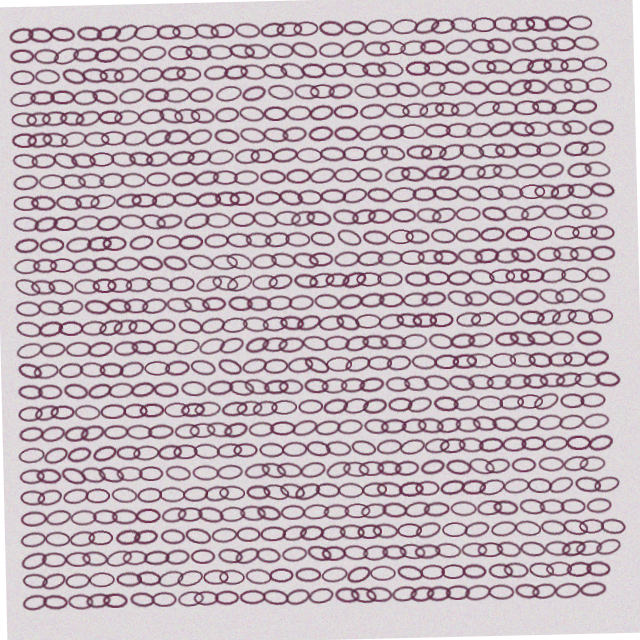chain: (345, 37, 374, 62), (301, 353, 330, 377), (284, 59, 313, 82), (14, 269, 43, 292), (530, 395, 559, 418), (119, 17, 147, 40), (337, 227, 365, 250), (58, 39, 87, 61), (148, 123, 177, 145), (441, 144, 470, 166), (226, 270, 255, 292), (464, 459, 493, 481), (289, 480, 318, 502), (14, 543, 43, 565), (66, 60, 94, 82), (511, 81, 539, 103), (55, 144, 83, 166), (334, 312, 362, 334), (215, 354, 243, 376), (39, 438, 67, 460), (56, 459, 84, 481), (321, 459, 349, 481), (228, 543, 256, 565), (34, 564, 62, 586), (339, 564, 367, 586), (419, 18, 448, 39), (296, 39, 325, 60), (478, 102, 507, 123), (226, 249, 255, 270), (446, 291, 475, 312), (550, 312, 579, 333), (197, 333, 226, 354), (507, 333, 536, 354), (241, 375, 270, 396), (288, 417, 317, 438), (93, 459, 122, 480), (274, 480, 303, 501), (409, 522, 438, 543), (99, 543, 128, 564), (162, 102, 190, 123), (492, 123, 520, 144), (341, 270, 369, 291), (97, 312, 125, 333), (295, 312, 323, 333), (535, 312, 563, 333), (217, 333, 245, 354), (243, 333, 271, 354), (15, 354, 43, 375), (31, 396, 59, 417), (76, 417, 104, 438), (88, 438, 116, 459), (256, 459, 284, 480), (543, 480, 571, 501), (300, 543, 328, 564), (589, 543, 617, 564), (450, 40, 478, 60), (347, 61, 375, 81), (96, 82, 124, 102), (79, 103, 107, 123), (243, 124, 271, 144), (280, 187, 308, 207), (185, 208, 213, 228), (293, 250, 321, 270), (196, 271, 224, 291), (212, 271, 240, 291), (469, 271, 497, 291), (183, 292, 211, 312), (15, 334, 43, 354), (188, 355, 216, 375), (343, 355, 371, 375), (226, 376, 254, 396), (446, 376, 474, 396), (258, 481, 286, 501), (474, 481, 502, 501), (589, 481, 617, 501), (192, 502, 220, 522), (179, 523, 207, 543), (458, 523, 486, 543), (151, 565, 179, 585), (170, 565, 198, 585), (390, 565, 418, 585), (343, 586, 371, 606), (200, 19, 227, 39), (531, 19, 558, 39), (492, 40, 519, 60), (514, 61, 541, 81), (246, 82, 273, 102), (425, 82, 452, 102), (191, 124, 218, 144), (361, 124, 388, 144), (383, 145, 410, 165), (462, 145, 489, 165), (458, 187, 485, 207), (552, 187, 579, 207), (35, 208, 62, 228), (142, 208, 169, 228), (254, 208, 281, 228), (292, 208, 319, 228), (433, 208, 460, 228), (522, 208, 549, 228), (163, 250, 190, 270), (514, 292, 541, 312), (538, 292, 565, 312), (177, 313, 204, 333), (199, 313, 226, 333), (343, 334, 370, 354), (427, 334, 454, 354), (117, 355, 144, 375), (85, 376, 112, 396), (404, 397, 431, 417), (220, 418, 247, 438), (63, 439, 90, 459), (347, 439, 374, 459), (396, 439, 423, 459), (584, 439, 611, 459), (32, 481, 59, 501), (251, 502, 278, 522), (557, 523, 584, 543), (555, 544, 582, 564), (278, 586, 305, 606), (456, 19, 484, 38), (234, 40, 262, 59), (245, 61, 273, 80), (123, 82, 151, 101), (220, 82, 248, 101), (272, 82, 300, 101), (388, 103, 416, 122), (555, 103, 583, 122), (64, 124, 92, 143), (312, 166, 340, 185), (441, 166, 469, 185), (479, 166, 507, 185), (587, 166, 615, 185), (92, 187, 120, 206), (334, 208, 362, 227), (567, 208, 595, 227), (188, 250, 216, 269), (309, 271, 337, 290), (15, 313, 43, 332), (395, 313, 423, 332), (172, 334, 200, 353), (301, 334, 329, 353), (421, 376, 449, 395), (553, 376, 581, 395), (340, 397, 368, 416), (203, 418, 231, 437), (240, 460, 268, 479), (272, 460, 300, 479), (58, 481, 86, 500), (570, 481, 598, 500), (40, 502, 68, 521), (399, 502, 427, 521), (514, 502, 542, 521), (393, 544, 421, 563), (15, 19, 42, 38), (102, 19, 129, 38), (517, 40, 544, 59), (267, 61, 294, 80), (400, 82, 427, 101), (243, 103, 270, 122), (313, 103, 340, 122), (423, 103, 450, 122), (513, 124, 540, 143), (550, 124, 577, 143), (190, 145, 217, 164), (366, 145, 393, 164), (197, 166, 224, 185), (542, 166, 569, 185), (344, 187, 371, 206), (592, 187, 619, 206), (353, 208, 380, 227), (130, 229, 157, 248), (139, 250, 166, 269), (271, 250, 298, 269), (511, 250, 538, 269), (268, 271, 295, 290), (106, 292, 133, 311), (37, 313, 64, 332), (112, 313, 139, 332), (240, 355, 267, 374), (582, 355, 609, 374), (61, 376, 88, 395), (128, 376, 155, 395), (320, 397, 347, 416), (37, 418, 64, 437), (469, 418, 496, 437), (302, 439, 329, 458), (76, 460, 103, 479), (296, 460, 323, 479), (416, 460, 443, 479), (559, 460, 586, 479), (435, 481, 462, 500), (156, 502, 183, 521), (276, 523, 303, 542), (490, 544, 517, 563), (15, 586, 42, 605), (301, 586, 328, 605), (387, 167, 415, 185), (495, 167, 523, 185), (48, 272, 76, 290), (488, 293, 516, 311), (414, 419, 442, 437), (485, 524, 513, 542), (509, 524, 537, 542), (255, 587, 283, 605), (241, 20, 268, 38), (266, 20, 293, 38), (250, 41, 277, 59), (406, 41, 433, 59), (383, 62, 410, 80), (450, 62, 477, 80), (15, 83, 42, 101), (359, 83, 386, 101), (194, 104, 221, 122), (46, 125, 73, 143), (172, 146, 199, 164), (211, 146, 238, 164), (63, 167, 90, 185), (403, 167, 430, 185), (58, 188, 85, 206), (480, 188, 507, 206), (500, 188, 527, 206), (158, 209, 185, 227), (483, 209, 510, 227), (505, 209, 532, 227), (67, 230, 94, 248), (311, 230, 338, 248), (364, 230, 391, 248), (458, 251, 485, 269), (541, 272, 568, 290), (141, 293, 168, 311), (166, 293, 193, 311), (221, 314, 248, 332), (242, 314, 269, 332), (318, 314, 345, 332), (378, 314, 405, 332), (470, 314, 497, 332), (567, 314, 594, 332), (86, 335, 113, 353), (277, 335, 304, 353), (526, 356, 553, 374), (219, 398, 246, 416), (312, 419, 339, 437), (433, 419, 460, 437), (322, 440, 349, 458), (161, 461, 188, 479), (339, 461, 366, 479), (372, 482, 399, 500), (356, 503, 383, 521), (15, 524, 42, 542), (64, 524, 91, 542), (535, 524, 562, 542), (514, 545, 541, 563), (570, 545, 597, 563), (239, 566, 266, 584), (315, 566, 342, 584), (522, 566, 549, 584), (458, 587, 485, 605), (548, 587, 575, 605), (437, 20, 463, 38), (367, 62, 393, 80), (126, 125, 152, 143), (218, 125, 244, 143), (267, 125, 293, 143), (470, 125, 496, 143), (74, 146, 100, 164), (114, 146, 140, 164), (132, 146, 158, 164), (149, 146, 175, 164), (498, 146, 524, 164), (584, 146, 610, 164), (174, 167, 200, 185), (570, 167, 596, 185), (570, 188, 596, 206), (98, 209, 124, 227), (308, 209, 334, 227), (418, 209, 444, 227), (16, 230, 42, 248), (432, 230, 458, 248), (31, 272, 57, 290), (294, 272, 320, 290), (586, 272, 612, 290), (84, 293, 110, 311), (338, 293, 364, 311), (32, 356, 58, 374), (357, 377, 383, 395), (250, 398, 276, 416), (360, 398, 386, 416), (61, 419, 87, 437), (489, 419, 515, 437), (512, 419, 538, 437), (556, 419, 582, 437), (442, 461, 468, 479), (481, 461, 507, 479), (200, 482, 226, 500), (488, 503, 514, 521), (128, 524, 154, 542), (595, 524, 621, 542), (212, 545, 238, 563), (250, 545, 276, 563), (403, 587, 429, 605), (508, 587, 534, 605), (525, 587, 551, 605), (140, 20, 167, 37), (398, 20, 425, 37), (191, 41, 218, 58), (538, 41, 565, 58), (579, 41, 606, 58), (87, 62, 114, 79), (119, 62, 146, 79), (46, 104, 73, 121), (143, 104, 170, 121), (364, 104, 391, 121), (455, 104, 482, 121), (275, 146, 302, 163), (323, 146, 350, 163), (81, 167, 108, 184), (118, 188, 145, 205), (175, 188, 202, 205), (393, 188, 420, 205), (435, 188, 462, 205), (15, 209, 42, 226), (76, 209, 103, 226), (121, 209, 148, 226), (247, 230, 274, 247), (15, 251, 42, 268), (335, 251, 362, 268), (358, 251, 385, 268), (554, 251, 581, 268), (126, 272, 153, 289), (147, 272, 174, 289), (39, 335, 66, 352), (261, 335, 288, 352), (361, 335, 388, 352), (379, 335, 406, 352), (400, 335, 427, 352), (526, 335, 553, 352), (78, 356, 105, 373), (286, 356, 313, 373), (465, 356, 492, 373), (508, 356, 535, 373), (106, 377, 133, 394), (205, 377, 232, 394), (466, 377, 493, 394), (192, 398, 219, 415), (234, 398, 261, 415), (451, 398, 478, 415), (334, 419, 361, 436), (534, 419, 561, 436), (580, 419, 607, 436), (15, 440, 42, 457), (190, 440, 217, 457), (213, 440, 240, 457), (373, 440, 400, 457), (436, 440, 463, 457), (107, 482, 134, 499), (499, 482, 526, 499), (235, 503, 262, 520), (298, 503, 325, 520), (367, 524, 394, 541), (76, 545, 103, 562), (429, 545, 456, 562), (171, 587, 198, 604), (359, 587, 386, 604), (573, 587, 600, 604), (34, 20, 60, 37), (56, 20, 82, 37), (83, 20, 109, 37), (325, 20, 351, 37), (499, 20, 525, 37), (123, 41, 149, 58), (147, 41, 173, 58), (275, 41, 301, 58), (40, 62, 66, 79), (144, 62, 170, 79), (166, 62, 192, 79), (209, 62, 235, 79), (229, 62, 255, 79), (306, 62, 332, 79), (299, 83, 325, 100), (333, 83, 359, 100), (528, 83, 554, 100), (552, 83, 578, 100), (219, 104, 245, 121), (439, 104, 465, 121), (536, 104, 562, 121), (31, 125, 57, 142), (168, 125, 194, 142), (286, 125, 312, 142), (312, 125, 338, 142), (566, 125, 592, 142), (16, 146, 42, 163), (238, 146, 264, 163), (567, 146, 593, 163), (16, 167, 42, 184), (102, 167, 128, 184), (427, 167, 453, 184), (33, 188, 59, 205), (154, 188, 180, 205), (217, 188, 243, 205), (369, 188, 395, 205), (88, 230, 114, 247), (228, 230, 254, 247), (266, 230, 292, 247), (481, 230, 507, 247), (93, 251, 119, 268), (475, 251, 501, 268), (38, 293, 64, 310), (58, 293, 84, 310), (228, 293, 254, 310), (314, 293, 340, 310), (360, 293, 386, 310), (421, 293, 447, 310), (555, 293, 581, 310), (580, 293, 606, 310), (279, 314, 305, 331), (519, 314, 545, 331), (130, 335, 156, 352), (57, 356, 83, 373), (163, 356, 189, 373), (385, 356, 411, 373), (410, 356, 436, 373), (16, 377, 42, 394), (179, 377, 205, 394), (302, 377, 328, 394), (402, 377, 428, 394), (593, 377, 619, 394), (431, 398, 457, 415), (16, 419, 42, 436), (361, 419, 387, 436), (154, 440, 180, 457), (421, 440, 447, 457), (455, 440, 481, 457), (32, 461, 58, 478), (373, 461, 399, 478), (311, 482, 337, 499), (523, 482, 549, 499), (377, 503, 403, 520), (472, 503, 498, 520), (110, 524, 136, 541), (294, 524, 320, 541), (334, 524, 360, 541), (159, 545, 185, 562), (276, 545, 302, 562), (337, 545, 363, 562), (16, 566, 42, 583), (130, 566, 156, 583), (497, 566, 523, 583), (79, 587, 105, 604), (123, 587, 149, 604), (328, 587, 354, 604), (385, 587, 411, 604), (424, 147, 451, 163), (482, 147, 509, 163), (207, 210, 234, 226), (503, 378, 530, 394), (72, 399, 99, 415), (213, 462, 240, 478), (206, 525, 233, 541), (539, 546, 566, 562), (179, 21, 205, 37), (100, 42, 126, 58), (213, 42, 239, 58), (370, 42, 396, 58), (475, 42, 501, 58), (429, 63, 455, 79), (477, 63, 503, 79), (492, 63, 518, 79), (532, 63, 558, 79), (549, 63, 575, 79), (169, 84, 195, 100), (569, 84, 595, 100), (16, 105, 42, 121), (64, 105, 90, 121), (119, 105, 145, 121), (179, 105, 205, 121), (88, 126, 114, 142), (529, 126, 555, 142), (300, 147, 326, 163), (519, 147, 545, 163), (263, 168, 289, 184), (258, 189, 284, 205), (546, 210, 572, 226), (584, 210, 610, 226), (73, 252, 99, 268), (213, 252, 239, 268), (434, 252, 460, 268), (75, 273, 101, 289), (253, 273, 279, 289), (405, 273, 431, 289), (562, 273, 588, 289), (267, 294, 293, 310), (403, 294, 429, 310), (81, 315, 107, 331), (262, 315, 288, 331), (449, 336, 475, 352), (467, 336, 493, 352), (320, 378, 346, 394), (521, 378, 547, 394), (573, 378, 599, 394), (178, 399, 204, 415), (475, 399, 501, 415), (124, 420, 150, 436), (145, 420, 171, 436), (246, 420, 272, 436), (378, 420, 404, 436), (130, 441, 156, 457), (475, 441, 501, 457), (189, 462, 215, 478), (576, 462, 602, 478), (155, 483, 181, 499), (215, 483, 241, 499), (334, 483, 360, 499), (394, 483, 420, 499), (16, 504, 42, 520), (66, 504, 92, 520), (107, 504, 133, 520), (215, 504, 241, 520), (319, 504, 345, 520), (419, 504, 445, 520), (446, 504, 472, 520), (155, 525, 181, 541), (315, 525, 341, 541), (138, 546, 164, 562), (357, 546, 383, 562), (376, 546, 402, 562), (409, 546, 435, 562), (110, 567, 136, 583), (213, 567, 239, 583), (482, 567, 508, 583), (560, 567, 586, 583), (61, 588, 87, 604), (482, 588, 508, 604), (350, 21, 375, 37), (517, 21, 542, 37), (551, 21, 576, 37), (574, 21, 599, 37), (40, 42, 65, 58), (325, 42, 350, 58), (105, 63, 130, 79), (182, 63, 207, 79), (566, 63, 591, 79), (78, 84, 103, 100), (194, 84, 219, 100), (31, 105, 56, 121), (577, 105, 602, 121), (338, 126, 363, 142), (593, 126, 618, 142), (540, 147, 565, 163), (124, 168, 149, 184), (237, 168, 262, 184), (361, 168, 386, 184), (464, 168, 489, 184), (519, 168, 544, 184), (199, 189, 224, 205), (300, 189, 325, 205), (537, 189, 562, 205), (41, 231, 66, 247), (180, 231, 205, 247), (287, 231, 312, 247), (407, 231, 432, 247), (592, 231, 617, 247), (253, 252, 278, 268), (379, 252, 404, 268), (496, 252, 521, 268), (571, 252, 596, 268), (448, 273, 473, 289), (16, 294, 41, 310), (247, 294, 272, 310), (289, 294, 314, 310), (465, 294, 490, 310), (456, 315, 481, 331), (113, 336, 138, 352), (576, 336, 601, 352), (98, 357, 123, 373), (262, 357, 287, 373), (547, 357, 572, 373), (562, 357, 587, 373), (152, 378, 177, 394), (262, 378, 287, 394), (277, 378, 302, 394), (339, 378, 364, 394), (384, 378, 409, 394), (485, 378, 510, 394), (16, 399, 41, 415), (497, 399, 522, 415), (172, 420, 197, 436), (399, 420, 424, 436), (453, 420, 478, 436), (256, 441, 281, 457), (540, 441, 565, 457), (16, 462, 41, 478), (391, 462, 416, 478), (16, 483, 41, 499), (133, 483, 158, 499), (179, 483, 204, 499), (242, 483, 267, 499), (358, 483, 383, 499), (88, 504, 113, 520), (535, 504, 560, 520), (556, 504, 581, 520), (582, 504, 607, 520), (40, 525, 65, 541), (59, 567, 84, 583), (456, 567, 481, 583), (580, 567, 605, 583), (36, 588, 61, 604), (420, 588, 445, 604), (283, 21, 309, 36), (373, 21, 399, 36), (79, 42, 105, 57), (386, 42, 412, 57), (591, 84, 617, 99), (407, 105, 433, 120), (497, 105, 523, 120), (105, 126, 131, 141), (404, 126, 430, 141), (429, 126, 455, 141), (450, 126, 476, 141), (410, 147, 436, 162), (42, 168, 68, 183), (16, 189, 42, 204), (134, 189, 160, 204), (323, 189, 349, 204), (522, 189, 548, 204), (277, 210, 303, 225), (158, 231, 184, 246), (390, 231, 416, 246), (457, 231, 483, 246), (556, 231, 582, 246), (574, 231, 600, 246), (419, 252, 445, 267), (170, 273, 196, 288), (357, 273, 383, 288), (378, 273, 404, 288), (490, 273, 516, 288), (355, 315, 381, 330), (65, 336, 91, 351), (143, 357, 169, 372), (325, 357, 351, 372), (489, 357, 515, 372), (538, 378, 564, 393), (98, 399, 124, 414), (162, 399, 188, 414), (269, 399, 295, 414), (515, 399, 541, 414), (578, 399, 604, 414), (187, 420, 213, 435), (267, 420, 293, 435), (113, 462, 139, 477), (355, 462, 381, 477), (535, 462, 561, 477), (340, 504, 366, 519), (255, 525, 281, 540), (437, 525, 463, 540), (456, 546, 482, 561), (472, 546, 498, 561), (83, 567, 109, 582), (197, 567, 223, 582), (289, 567, 315, 582), (364, 567, 390, 582), (540, 567, 566, 582), (233, 588, 259, 603), (163, 21, 188, 36), (217, 21, 242, 36), (300, 21, 325, 36), (478, 21, 503, 36), (16, 42, 41, 57), (174, 42, 199, 57), (426, 42, 451, 57), (557, 42, 582, 57), (16, 63, 41, 78), (328, 63, 353, 78), (411, 63, 436, 78), (588, 63, 613, 78), (35, 84, 60, 99), (55, 84, 80, 99), (150, 84, 175, 99), (315, 84, 340, 99), (381, 84, 406, 99), (444, 84, 469, 99), (468, 84, 493, 99), (492, 84, 517, 99), (103, 105, 128, 120), (268, 105, 293, 120), (291, 105, 316, 120), (338, 105, 363, 120), (519, 105, 544, 120), (16, 126, 41, 141), (384, 126, 409, 141), (35, 147, 60, 162), (93, 147, 118, 162), (254, 147, 279, 162), (346, 147, 371, 162), (149, 168, 174, 183), (216, 168, 241, 183), (289, 168, 314, 183), (337, 168, 362, 183), (78, 189, 103, 204), (232, 189, 257, 204), (415, 189, 440, 204), (55, 210, 80, 225), (233, 210, 258, 225), (370, 210, 395, 225), (394, 210, 419, 225), (458, 210, 483, 225), (104, 231, 129, 246), (206, 231, 231, 246), (507, 231, 532, 246), (529, 231, 554, 246), (34, 252, 59, 267), (51, 252, 76, 267), (116, 252, 141, 267), (310, 252, 335, 267), (401, 252, 426, 267), (538, 252, 563, 267), (592, 252, 617, 267), (93, 273, 118, 288), (108, 273, 133, 288), (326, 273, 351, 288), (426, 273, 451, 288), (506, 273, 531, 288), (521, 273, 546, 288), (124, 294, 149, 309), (202, 294, 227, 309), (379, 294, 404, 309), (58, 315, 83, 330), (128, 315, 153, 330), (151, 315, 176, 330), (412, 315, 437, 330), (429, 315, 454, 330), (495, 315, 520, 330), (588, 315, 613, 330), (152, 336, 177, 351), (324, 336, 349, 351), (494, 336, 519, 351), (549, 336, 574, 351), (366, 357, 391, 372), (433, 357, 458, 372), (451, 357, 476, 372), (36, 378, 61, 393), (48, 399, 73, 414), (121, 399, 146, 414), (137, 399, 162, 414), (296, 399, 321, 414), (386, 399, 411, 414), (558, 399, 583, 414), (101, 420, 126, 435), (113, 441, 138, 456), (170, 441, 195, 456), (230, 441, 255, 456), (279, 441, 304, 456), (499, 441, 524, 456), (518, 441, 543, 456), (563, 441, 588, 456), (135, 462, 160, 477), (508, 462, 533, 477), (81, 483, 106, 498), (411, 483, 436, 498), (457, 483, 482, 498), (131, 504, 156, 519), (173, 504, 198, 519), (276, 504, 301, 519), (83, 525, 108, 540), (231, 525, 256, 540), (352, 525, 377, 540), (392, 525, 417, 540), (574, 525, 599, 540), (36, 546, 61, 561), (60, 546, 85, 561), (117, 546, 142, 561), (185, 546, 210, 561), (316, 546, 341, 561), (263, 567, 288, 582), (414, 567, 439, 582), (435, 567, 460, 582), (96, 588, 121, 603), (145, 588, 170, 603), (187, 588, 212, 603), (208, 588, 233, 603), (439, 588, 464, 603)
